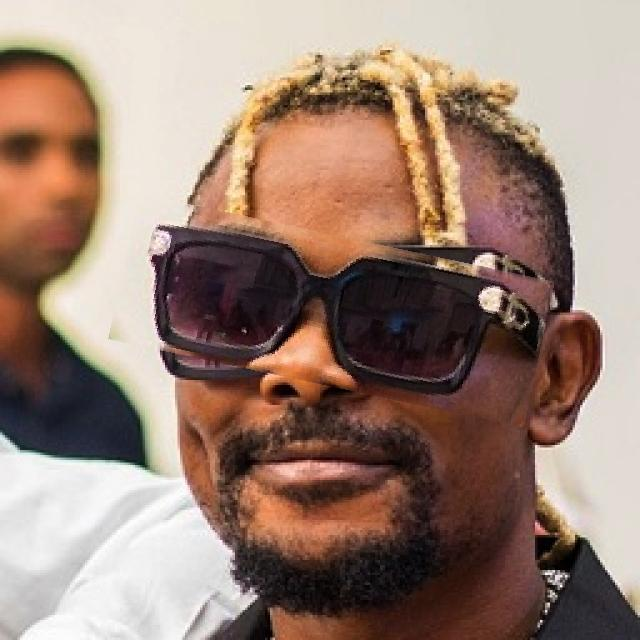glasses: (114, 215, 549, 406)
